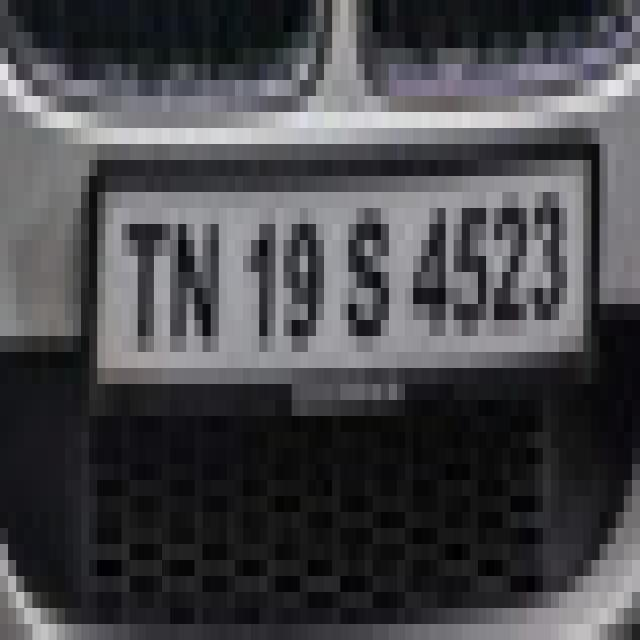1: (245, 207, 282, 355)
3: (531, 173, 572, 337)
4: (409, 191, 454, 357)
5: (453, 185, 490, 362)
9: (286, 196, 334, 379)
N: (170, 208, 220, 350)
S: (345, 196, 398, 356)
T: (119, 197, 179, 369)
